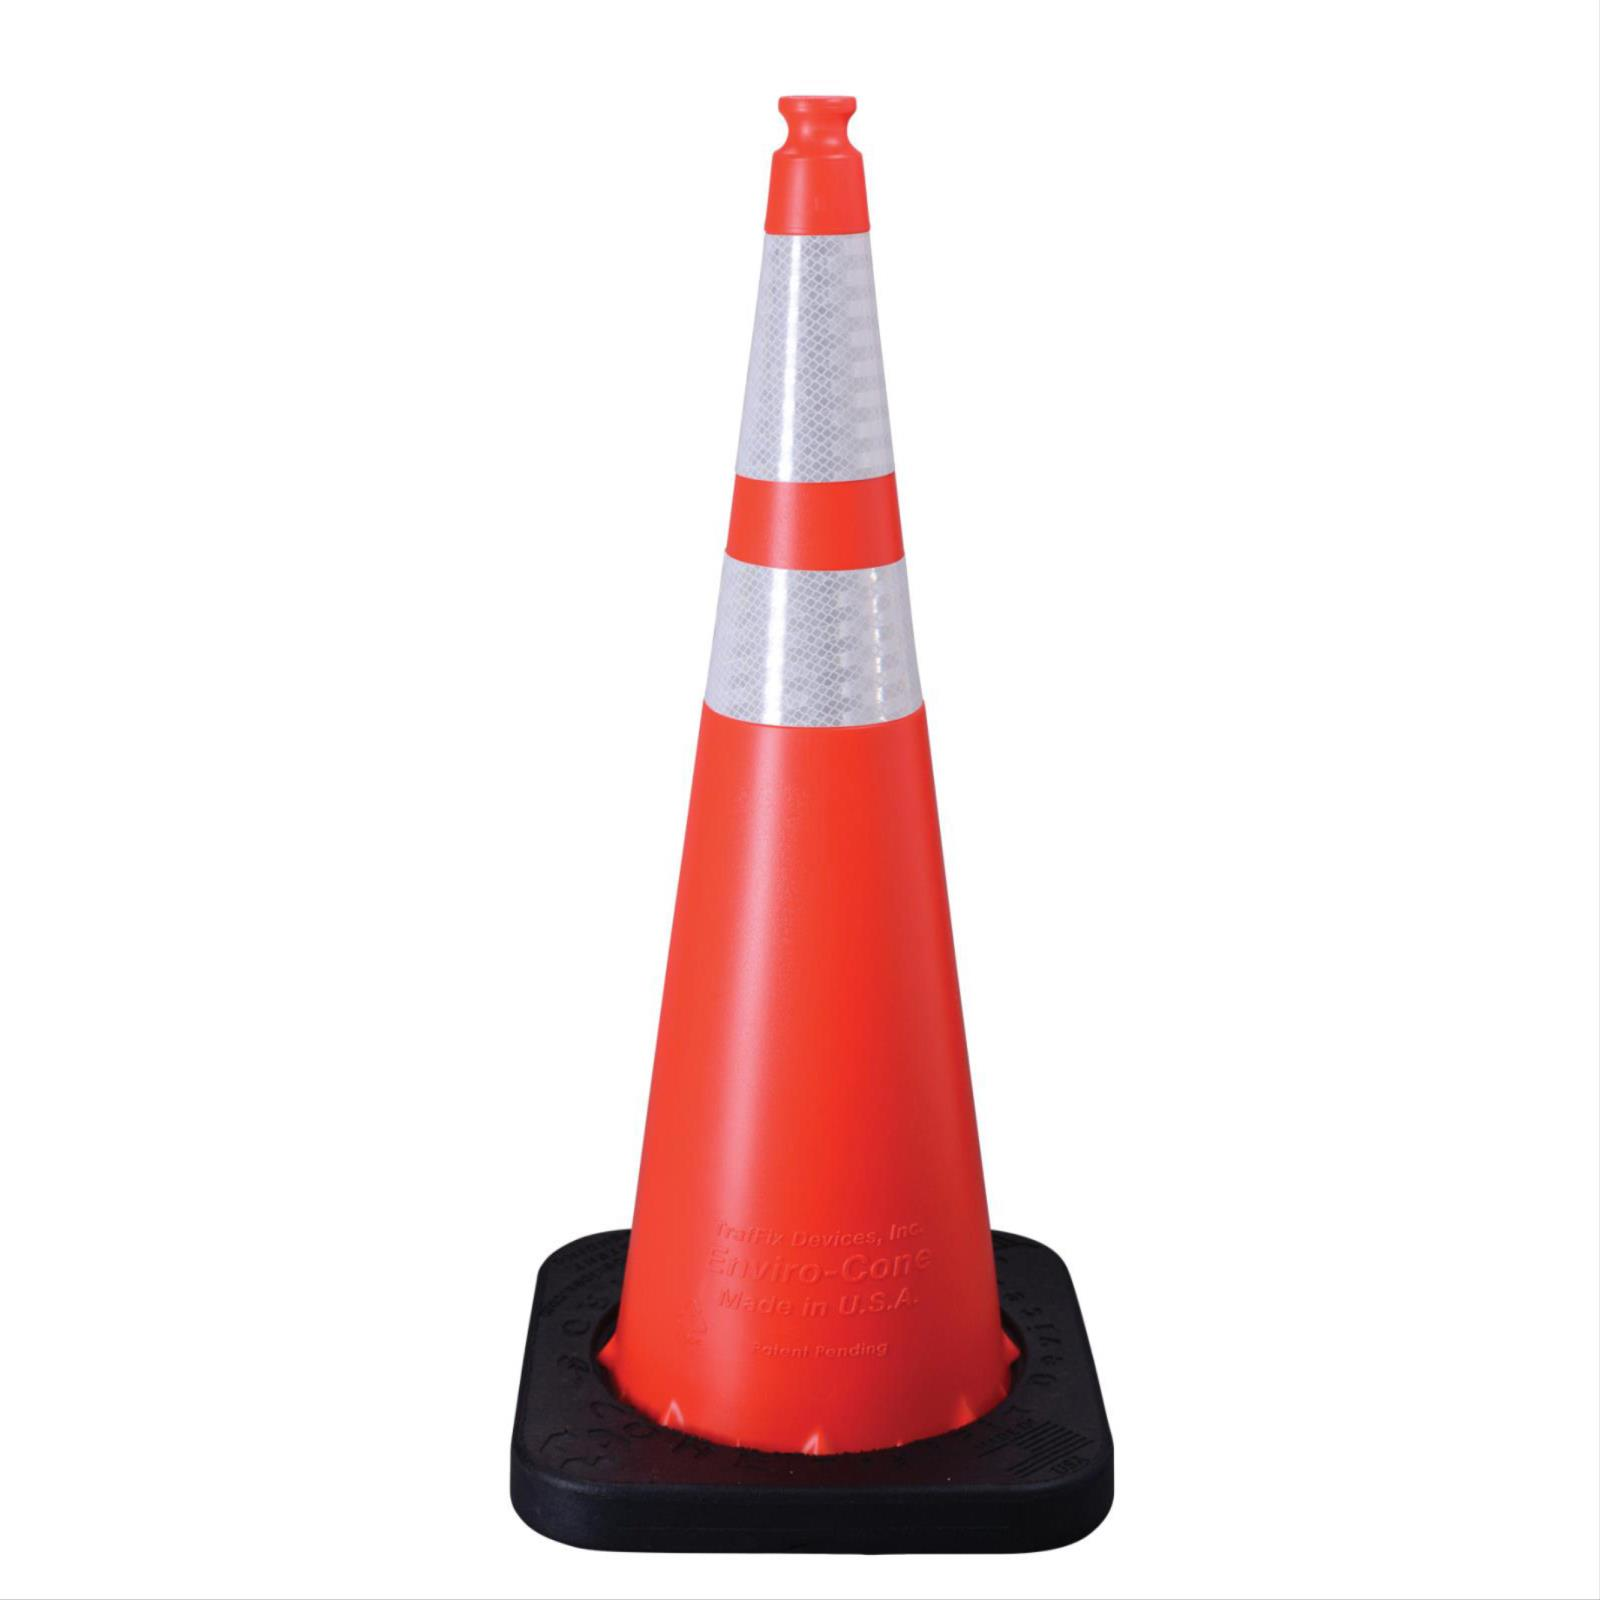cone: (510, 94, 1115, 1555)
